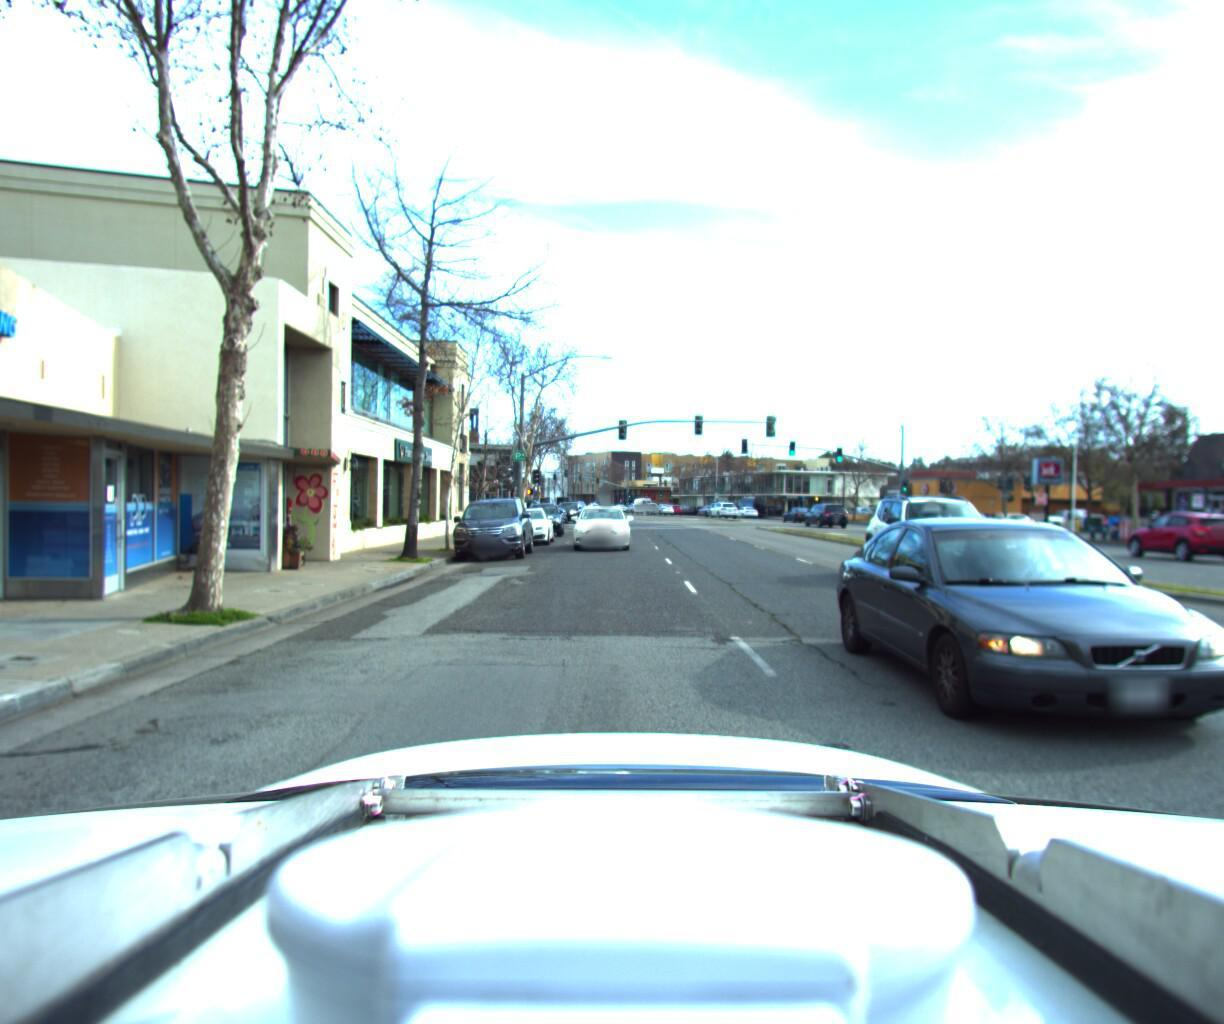car: (846, 508, 1224, 848), (865, 486, 1039, 598), (1105, 502, 1224, 556), (446, 490, 535, 558), (567, 498, 627, 550), (502, 497, 554, 540), (1029, 500, 1097, 524), (975, 503, 1036, 523), (952, 502, 1013, 521), (800, 496, 846, 520), (551, 496, 586, 519), (703, 494, 734, 511)
